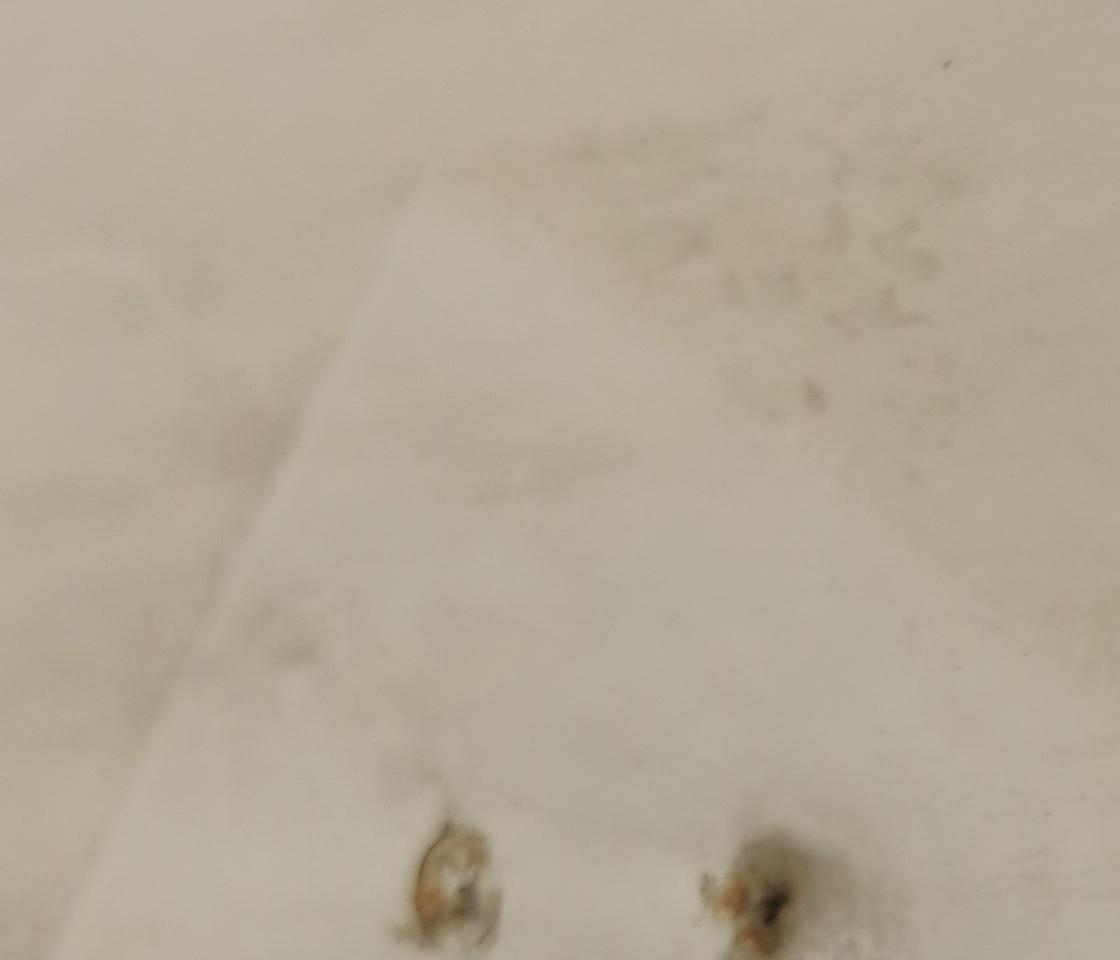rust: (700, 840, 781, 960), (406, 819, 453, 947)
